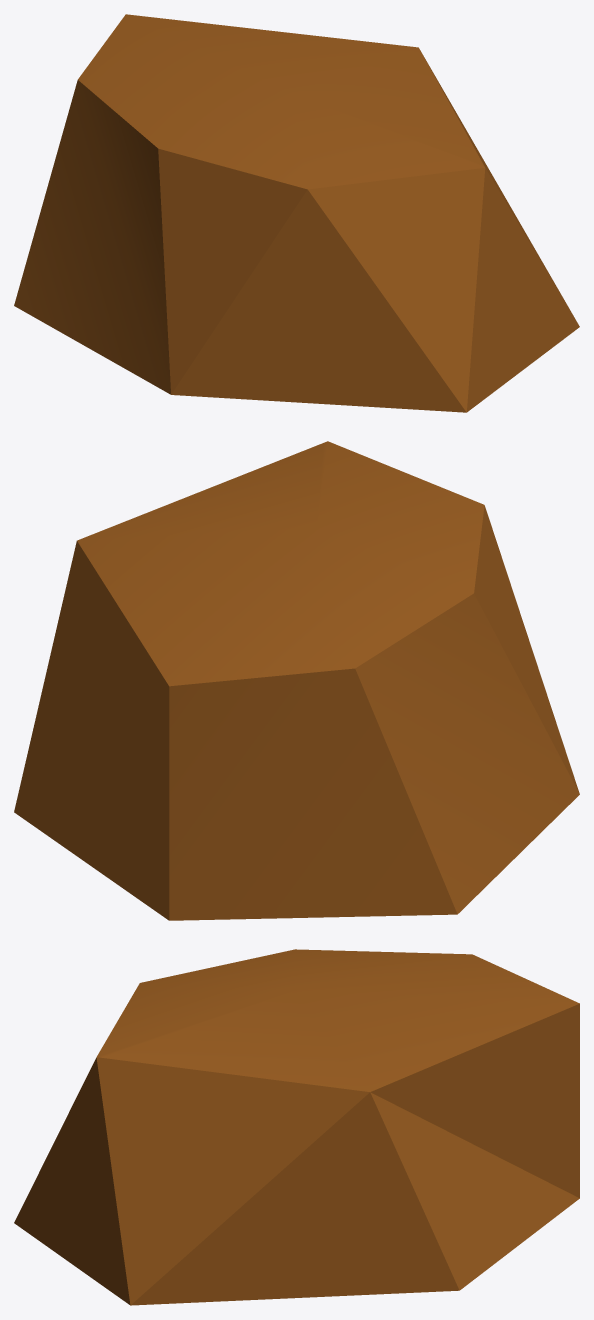
The model's file is Rock_Small_Dirt_03.fbx.
3 views of the same model, one above another, from view 1: azimuth 30°, elevation 25°; view 2: azimuth 150°, elevation 25°; view 3: azimuth 270°, elevation 25° (orthographic). The views are drawn at different scales.
Visible parts, largest first — view 1: Rock_Small_Dirt_03; view 2: Rock_Small_Dirt_03; view 3: Rock_Small_Dirt_03.
Part boxes in pixels (x1,y1,x2,y2): Rock_Small_Dirt_03: [14, 14, 579, 412]; Rock_Small_Dirt_03: [14, 441, 579, 920]; Rock_Small_Dirt_03: [14, 949, 579, 1305].
Bounding box in the file's own units: 20.99 × 13.85 × 26.11.
